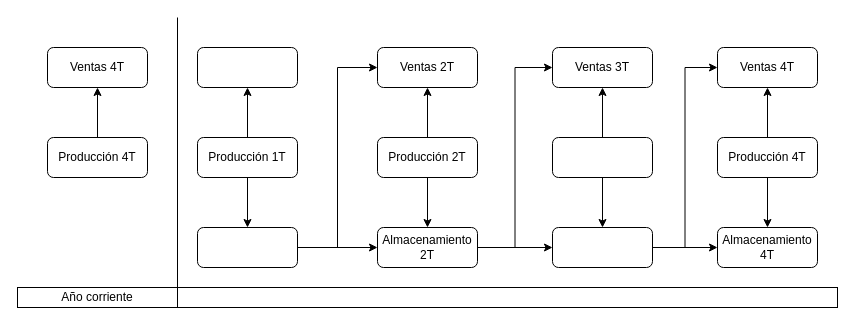
Some shapes in this 855 by 325 pixel diagram are drawn without their labels. Each missing label, with the centre of its shape:
"Almacenamiento 1T" goes at (x=247, y=247).
"Almacenamiento 3T" goes at (x=602, y=247).
"Año próximo" goes at (x=507, y=297).
"Producción 3T" goes at (x=602, y=157).
"Ventas 1T" goes at (x=247, y=67).
